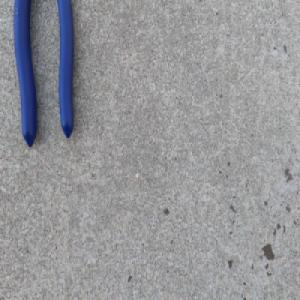Pliers: (11, 0, 75, 150)
